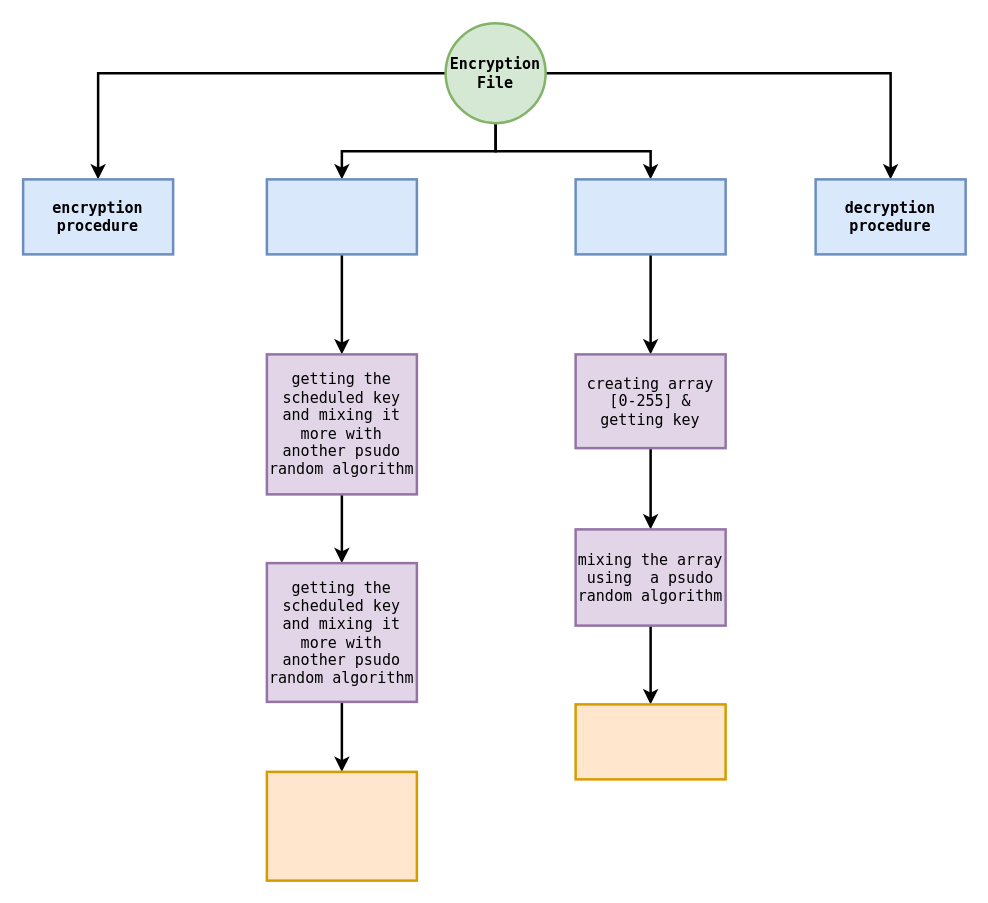
The diagram is 988 pixels wide and 903 high, and some of its shapes have lost their labels. Here are the shapes that lost their labels. From the top down, the centre of each, then its label:
At [341,216]: "Stream Key Generation".
At [650,216]: "key scheduling".
At [650,741]: "returning the result".
At [341,825]: "returning the stream key".
